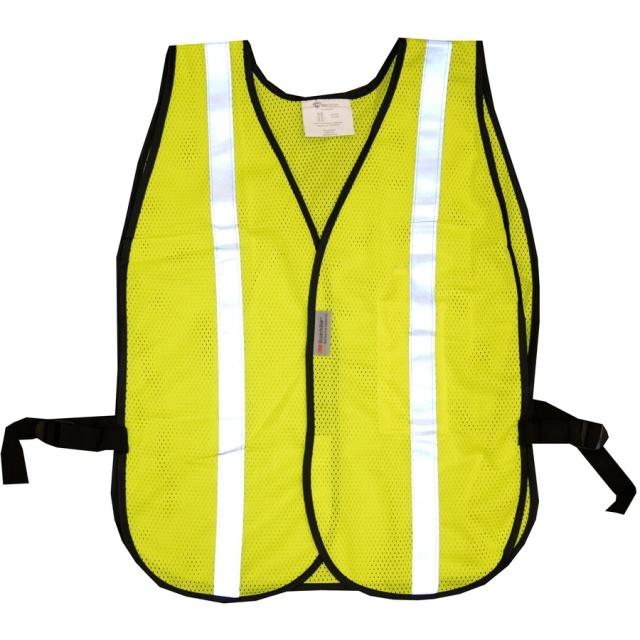vest: (114, 48, 541, 640)
